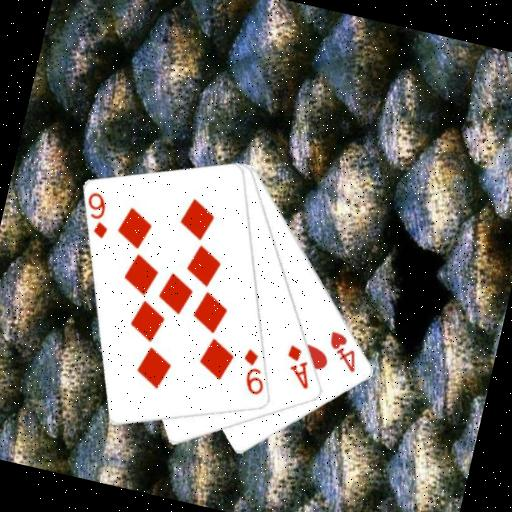4H: (321, 327, 366, 375)
9D: (233, 345, 274, 399), (78, 188, 118, 242)
AD: (278, 341, 320, 393)
